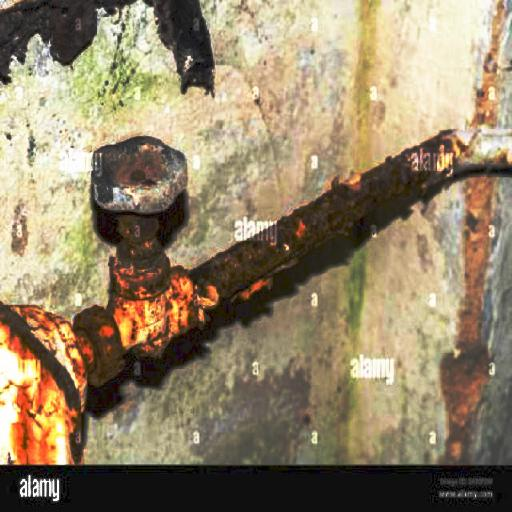corrosion: (0, 116, 459, 463)
